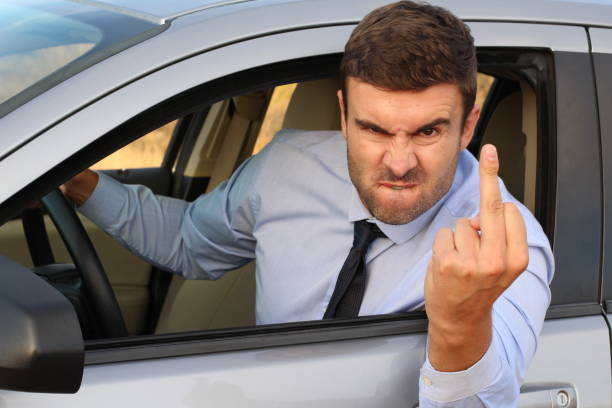insulting_gesture: (425, 143, 531, 331)
